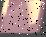scratch: (0, 0, 44, 37)
